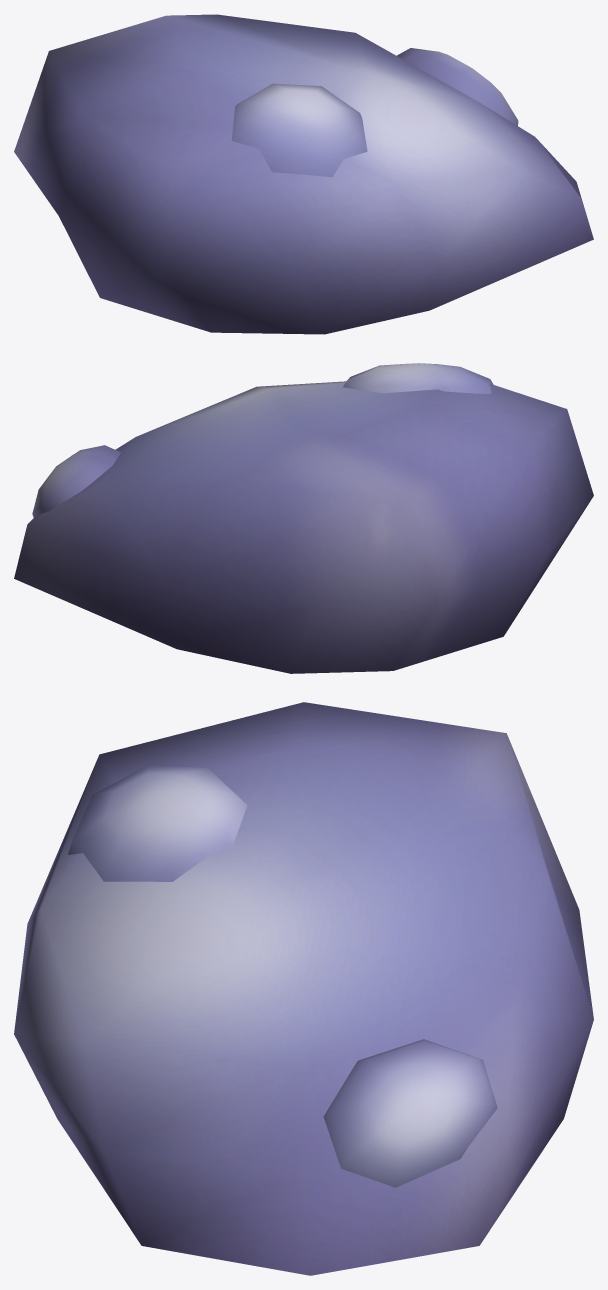
File: t2_m_ara_dpl_rockPurple.fbx
The picture shows the model from 3 angles, top to bottom: view 1: azimuth 30°, elevation 25°; view 2: azimuth 150°, elevation 25°; view 3: azimuth 270°, elevation 25°; orthographic projection. The views are drawn at different scales.
Parts seen in each view (by area): view 1: t2_m_ara_dpl_rockPurple; view 2: t2_m_ara_dpl_rockPurple; view 3: t2_m_ara_dpl_rockPurple.
Boxes of the visible parts, x1=… form: t2_m_ara_dpl_rockPurple: x1=14, y1=14, x2=593, y2=334; t2_m_ara_dpl_rockPurple: x1=14, y1=363, x2=593, y2=673; t2_m_ara_dpl_rockPurple: x1=14, y1=702, x2=593, y2=1275.
Size of the model in its own units: 2.03 by 0.7755 by 1.48.
1 material, 1 textured.
